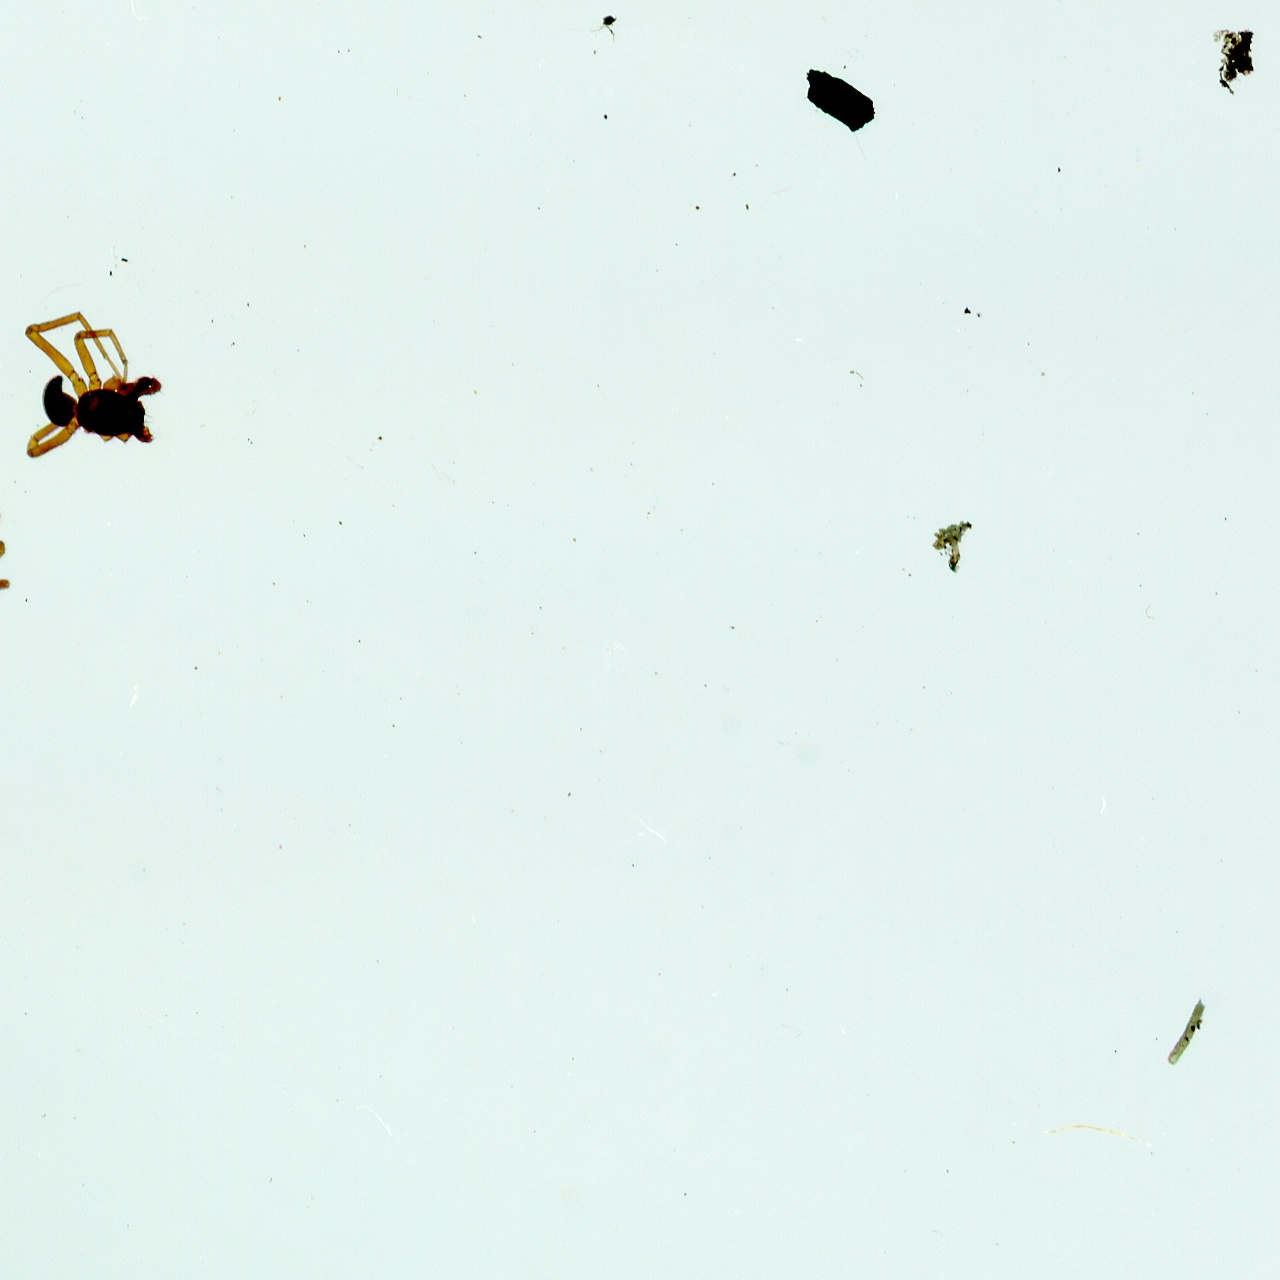arthropod: (12, 304, 172, 463), (0, 492, 25, 679)
